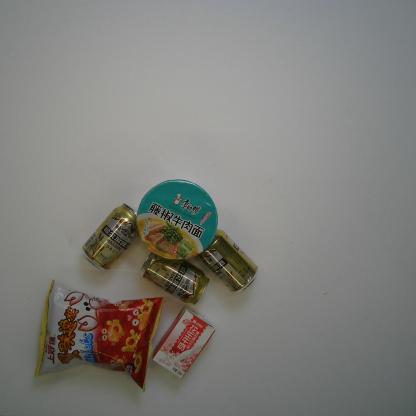Alcohol: (81, 202, 139, 272), (198, 228, 259, 294), (139, 252, 211, 305)
Instant Noodles: (135, 178, 219, 262)
Milk: (152, 304, 216, 379)
Puffed Food: (34, 279, 166, 393)
